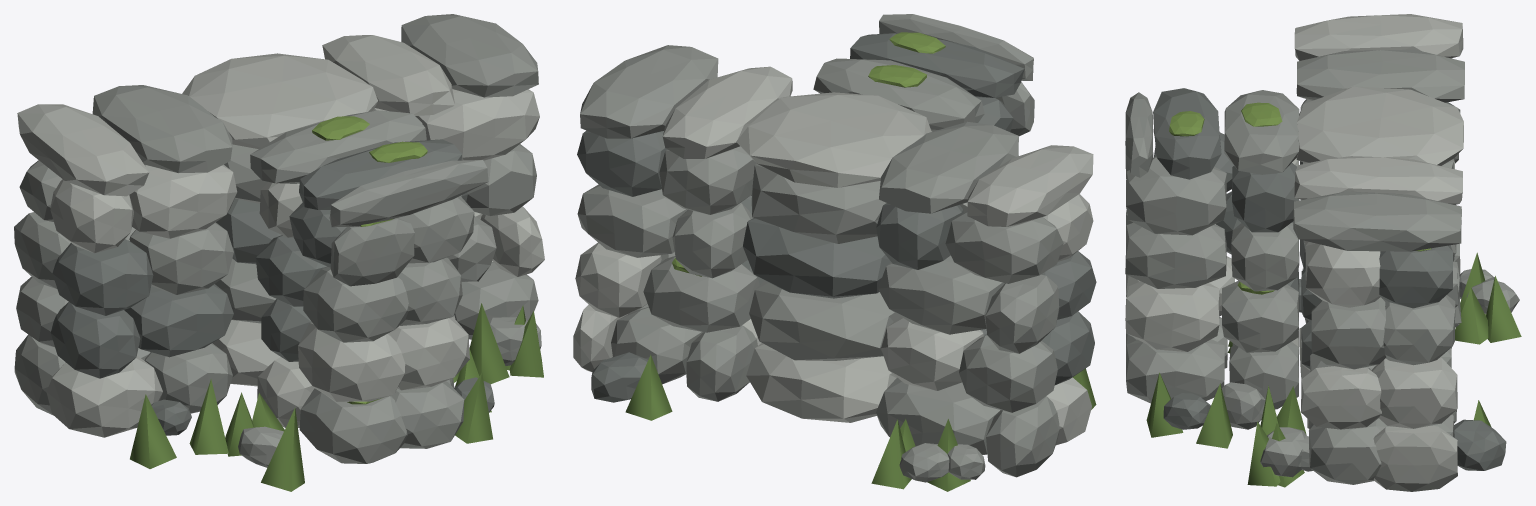
The model's file is stone-wall-3way.glb.
3 renders of one model, left to right at view 1: azimuth 30°, elevation 25°; view 2: azimuth 150°, elevation 25°; view 3: azimuth 270°, elevation 25°, orthographic. The views are drawn at different scales.
Visible parts, largest first — view 1: junction_capstone, stone_20, stone_19, stone_52, stone_51, stone_1, stone_68, stone_92, stone_86, stone_14, stone_62, stone_46 (+43 smaller); view 2: junction_capstone, stone_102, stone_52, stone_20, stone_101, stone_103, stone_51, stone_19, stone_104, stone_12, stone_37, stone_15 (+31 smaller); view 3: junction_capstone, stone_52, stone_20, stone_51, stone_19, stone_85, stone_72, stone_78, stone_40, stone_33, stone_66, stone_86 (+32 smaller).
Boxes of the visible parts, left/top/right/bottom form: junction_capstone: left=182, top=53, right=377, bottom=148; stone_20: left=92, top=85, right=232, bottom=173; stone_19: left=17, top=104, right=149, bottom=196; stone_52: left=401, top=14, right=538, bottom=97; stone_51: left=322, top=35, right=454, bottom=115; stone_1: left=46, top=355, right=162, bottom=437; stone_68: left=298, top=322, right=405, bottom=401; stone_92: left=329, top=160, right=488, bottom=227; stone_86: left=250, top=110, right=426, bottom=183; stone_14: left=129, top=164, right=237, bottom=238; stone_62: left=299, top=388, right=407, bottom=463; stone_46: left=415, top=89, right=539, bottom=160; junction_capstone: left=736, top=92, right=931, bottom=187; stone_102: left=749, top=280, right=900, bottom=360; stone_52: left=580, top=45, right=718, bottom=138; stone_20: left=879, top=121, right=1018, bottom=213; stone_101: left=746, top=343, right=896, bottom=422; stone_103: left=743, top=218, right=890, bottom=298; stone_51: left=662, top=66, right=792, bottom=158; stone_19: left=967, top=145, right=1093, bottom=226; stone_104: left=751, top=163, right=886, bottom=243; stone_12: left=878, top=255, right=1004, bottom=334; stone_37: left=643, top=256, right=759, bottom=332; stone_15: left=945, top=211, right=1063, bottom=283; junction_capstone: left=1296, top=86, right=1463, bottom=165; stone_52: left=1293, top=191, right=1461, bottom=251; stone_20: left=1296, top=49, right=1464, bottom=102; stone_51: left=1294, top=156, right=1462, bottom=204; stone_19: left=1294, top=14, right=1463, bottom=60; stone_85: left=1126, top=156, right=1226, bottom=235; stone_72: left=1125, top=281, right=1219, bottom=351; stone_78: left=1125, top=222, right=1226, bottom=288; stone_40: left=1371, top=357, right=1457, bottom=428; stone_33: left=1373, top=425, right=1457, bottom=491; stone_66: left=1126, top=339, right=1224, bottom=403; stone_86: left=1224, top=90, right=1299, bottom=174.
Size of the model in its own units: 1 by 0.6111 by 0.7788.
